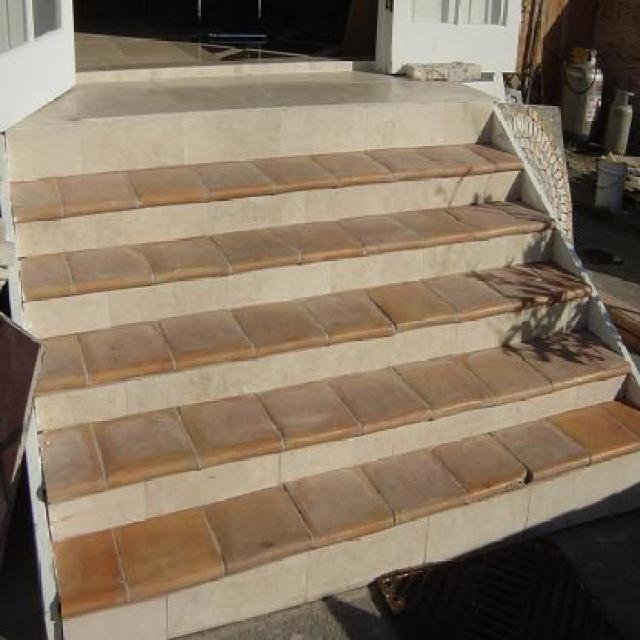stair: (6, 95, 640, 640)
